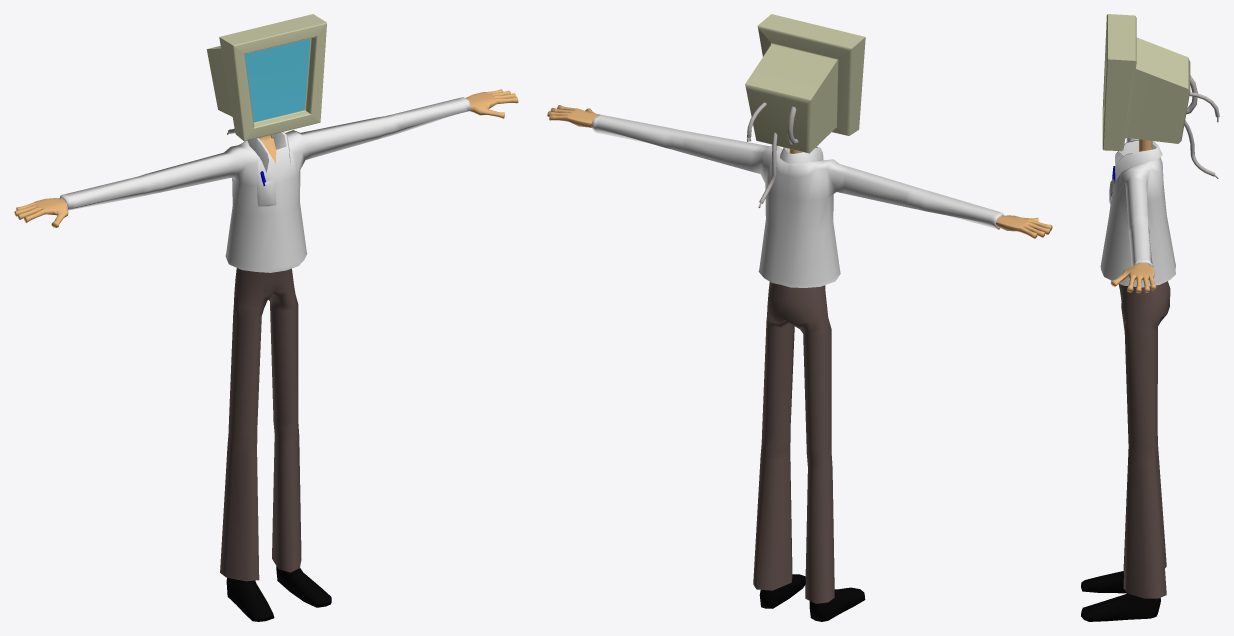
File: machineworkers2.fbx
The picture shows the model from 3 angles, left to right: view 1: azimuth 30°, elevation 25°; view 2: azimuth 150°, elevation 25°; view 3: azimuth 270°, elevation 25°; orthographic projection.
Parts seen in each view (by area): view 1: Human 2.001; view 2: Human 2.001; view 3: Human 2.001.
Boxes of the visible parts, box(x1,y1,x2,y2) form: Human 2.001: box(14, 14, 518, 621); Human 2.001: box(547, 14, 1052, 621); Human 2.001: box(1081, 14, 1219, 621).
Size of the model in its own units: 158 by 174 by 38.66.
